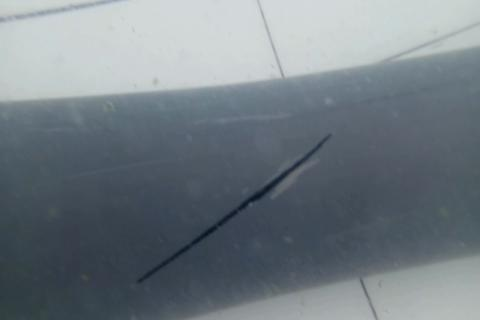keretakan: (131, 130, 330, 285)
